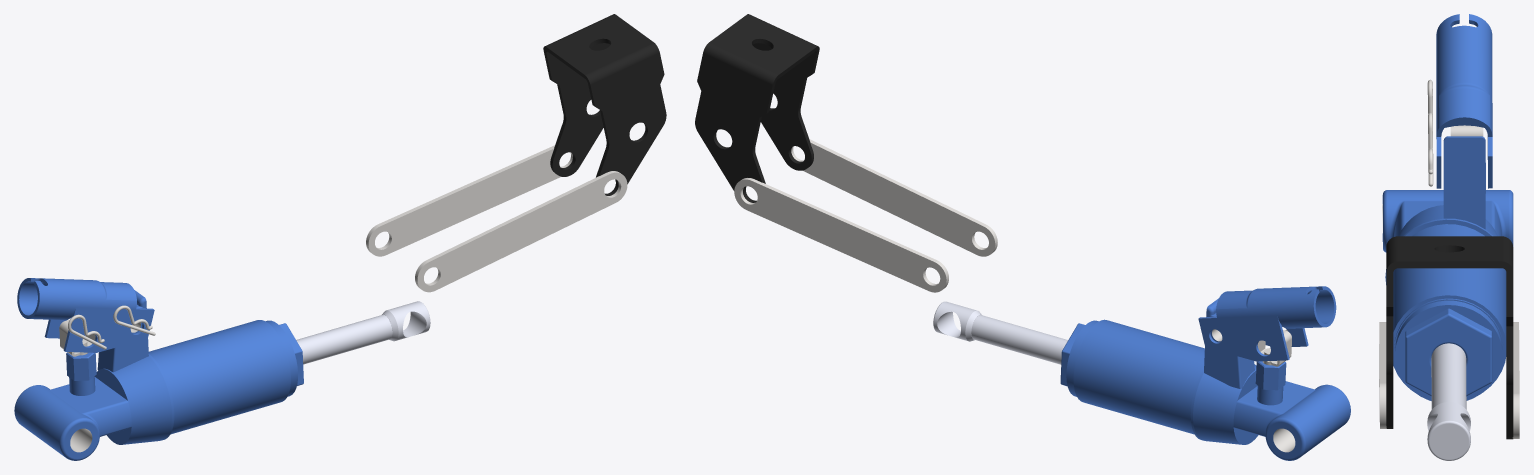
Rendered from Update03.glb.
3 views of the same model, side by side, from view 1: azimuth 30°, elevation 25°; view 2: azimuth 150°, elevation 25°; view 3: azimuth 270°, elevation 25° (orthographic). The views are drawn at different scales.
Parts seen in each view (by area): view 1: Update03; view 2: Update03; view 3: Update03.
Part boxes in pixels (x1,y1,x2,y2): Update03: (14, 14, 666, 460); Update03: (695, 14, 1350, 460); Update03: (1379, 14, 1519, 460).
Size of the model in its own units: 0.415 by 0.1871 by 0.0603.
